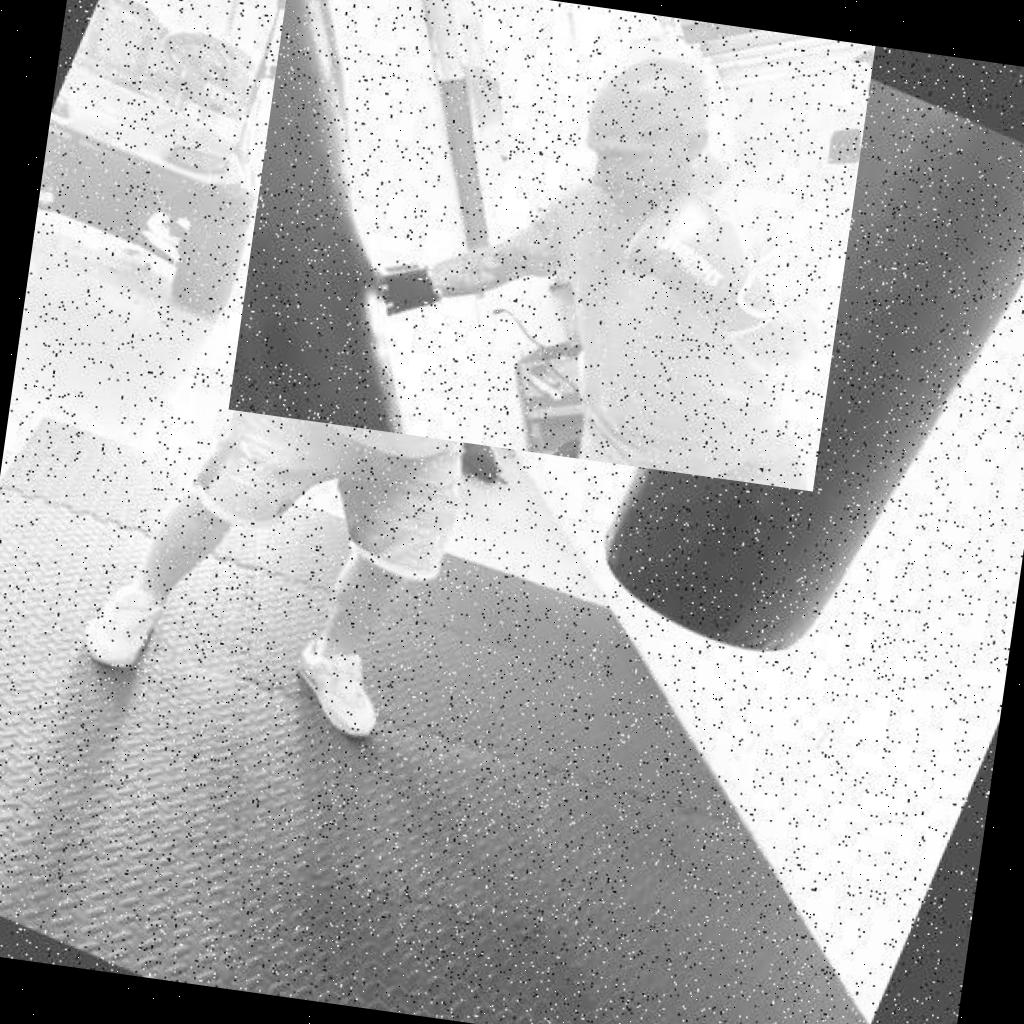hook: (228, 0, 875, 491)
